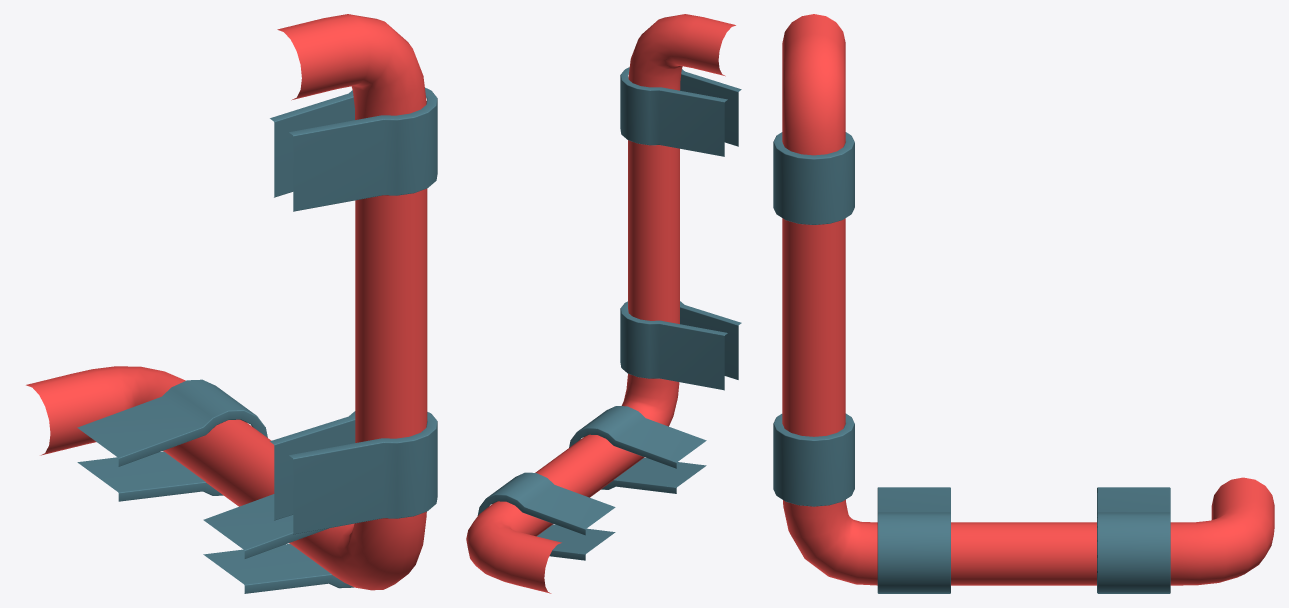
File: City_3_Pipe_2.glb
The picture shows the model from 3 angles, left to right: view 1: azimuth 30°, elevation 25°; view 2: azimuth 150°, elevation 25°; view 3: azimuth 270°, elevation 25°; orthographic projection. The views are drawn at different scales.
Visible parts, largest first — view 1: City_3_Pipe_2; view 2: City_3_Pipe_2; view 3: City_3_Pipe_2.
Part boxes in pixels (bbox=[...]): City_3_Pipe_2: bbox=[26, 14, 437, 593]; City_3_Pipe_2: bbox=[466, 14, 741, 593]; City_3_Pipe_2: bbox=[773, 14, 1274, 593].
Size of the model in its own units: 0.7264 by 2.76 by 2.36.
Materials: 1 (1 with a texture image).
